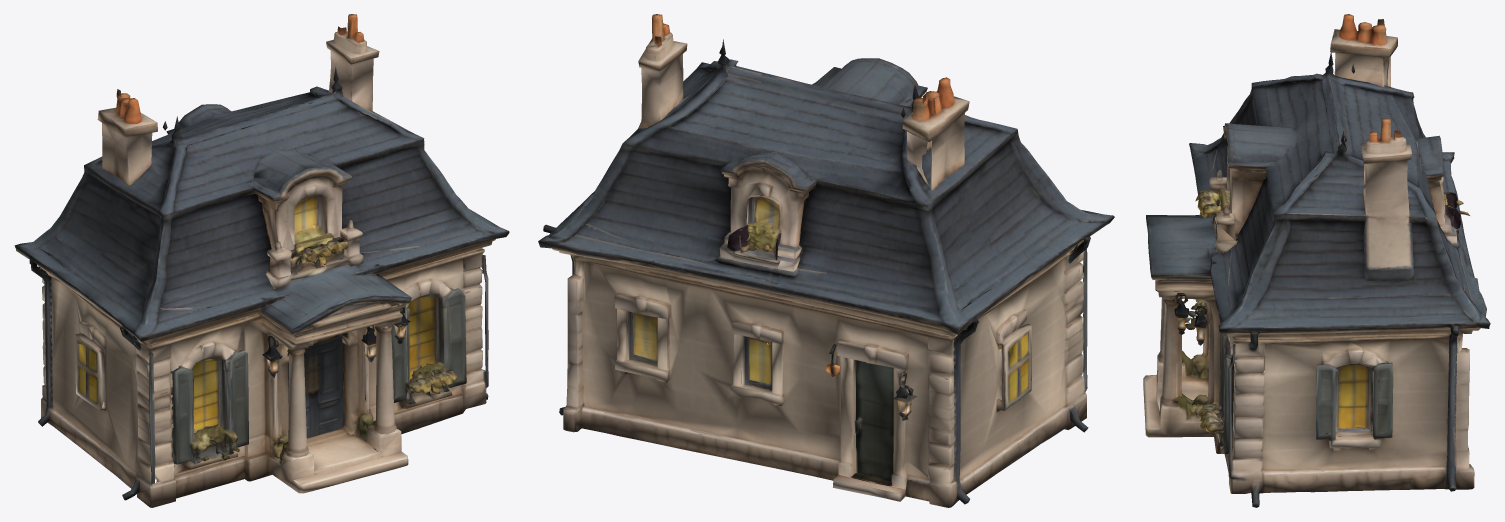
3 views of the same model, side by side, from view 1: azimuth 30°, elevation 25°; view 2: azimuth 150°, elevation 25°; view 3: azimuth 270°, elevation 25° (orthographic). The views are drawn at different scales.
Visible parts, largest first — view 1: classic__hotel_1__neural_lod; view 2: classic__hotel_1__neural_lod; view 3: classic__hotel_1__neural_lod.
Part boxes in pixels (x1=…): classic__hotel_1__neural_lod: x1=14, y1=14, x2=509, y2=507; classic__hotel_1__neural_lod: x1=538, y1=14, x2=1114, y2=507; classic__hotel_1__neural_lod: x1=1143, y1=14, x2=1490, y2=507.
Size of the model in its own units: 1 by 0.882 by 0.7803.
Materials: 1 (1 with a texture image).
